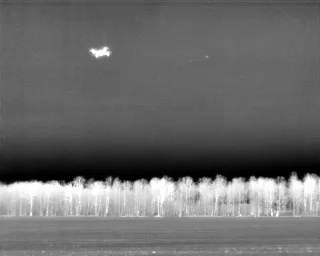DRONE: (86, 41, 115, 63)
